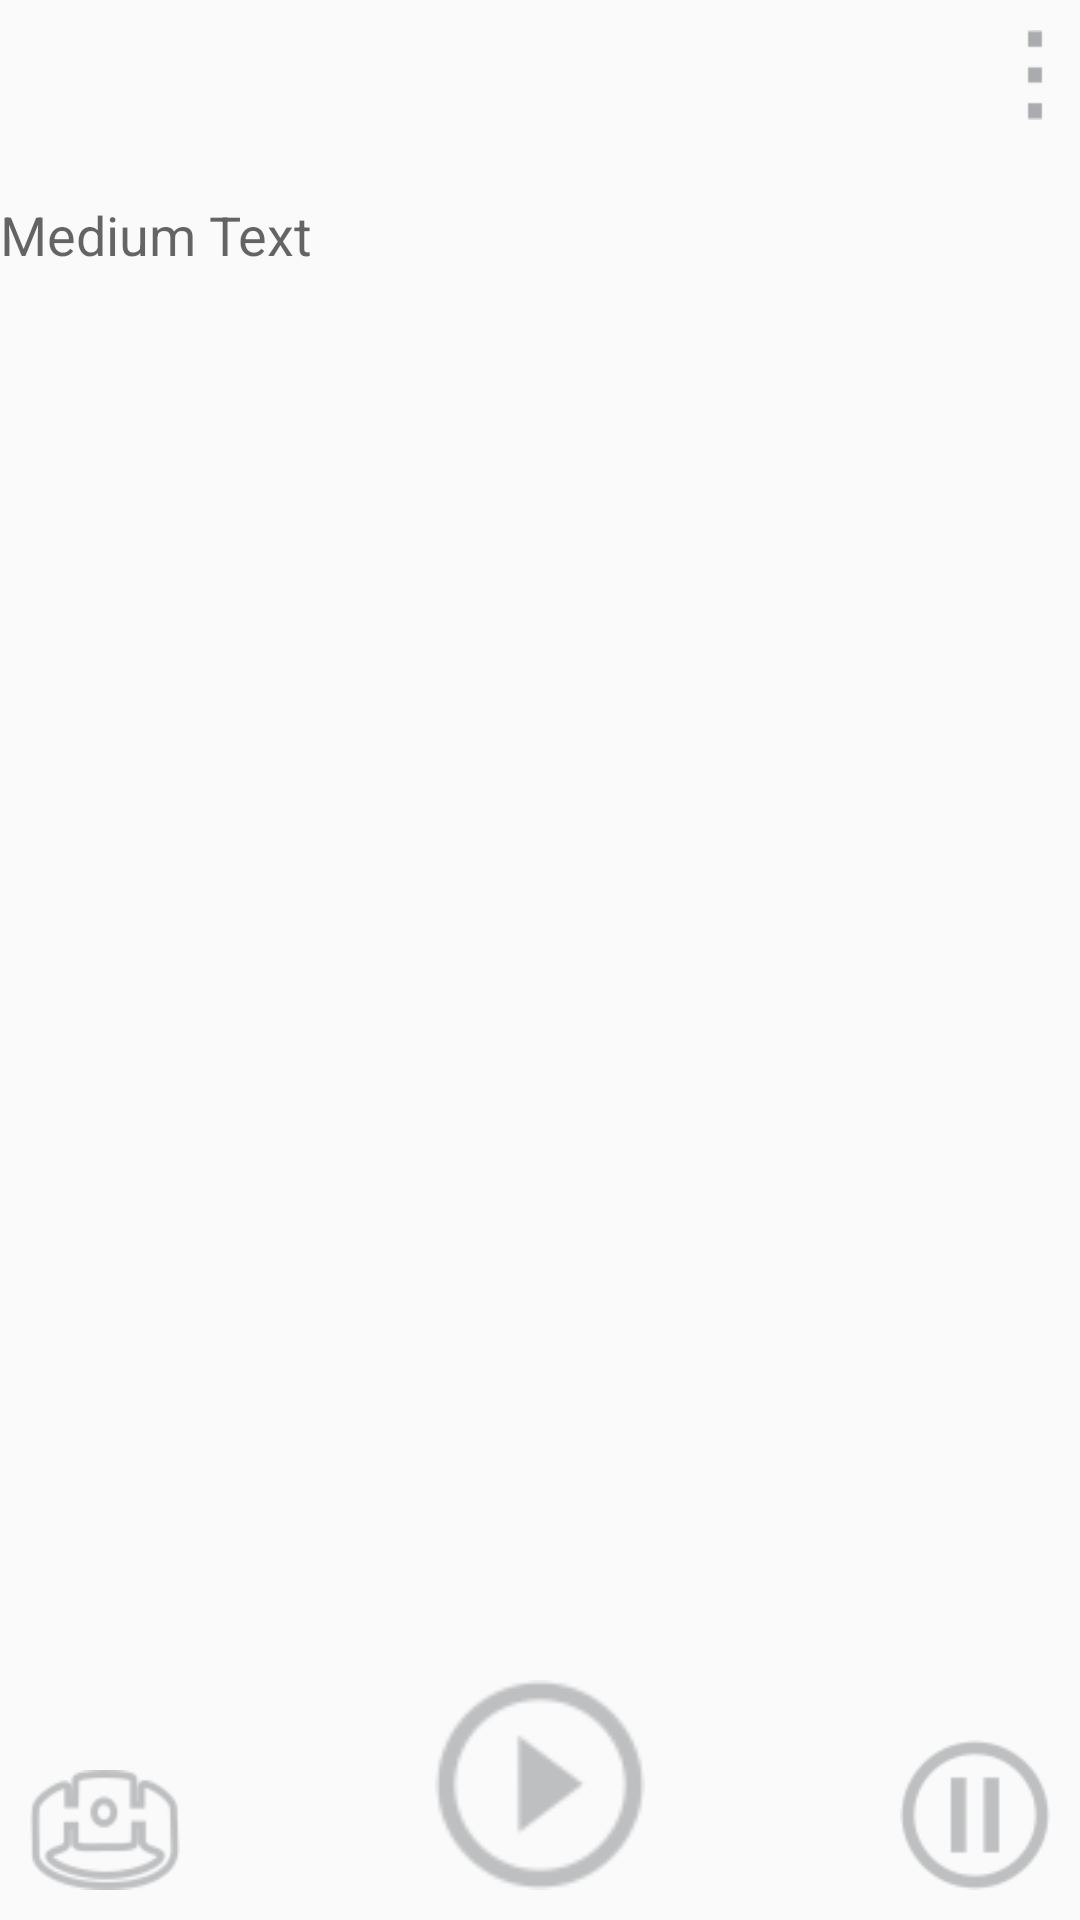

Icon bounding boxes for this 1080w x 1920h phone screenshot, format Rect(x1, y1, x2, y2):
iniciar: Rect(438, 1683, 642, 1887)
myo: Rect(32, 1770, 178, 1890)
pausar: Rect(902, 1742, 1048, 1888)
